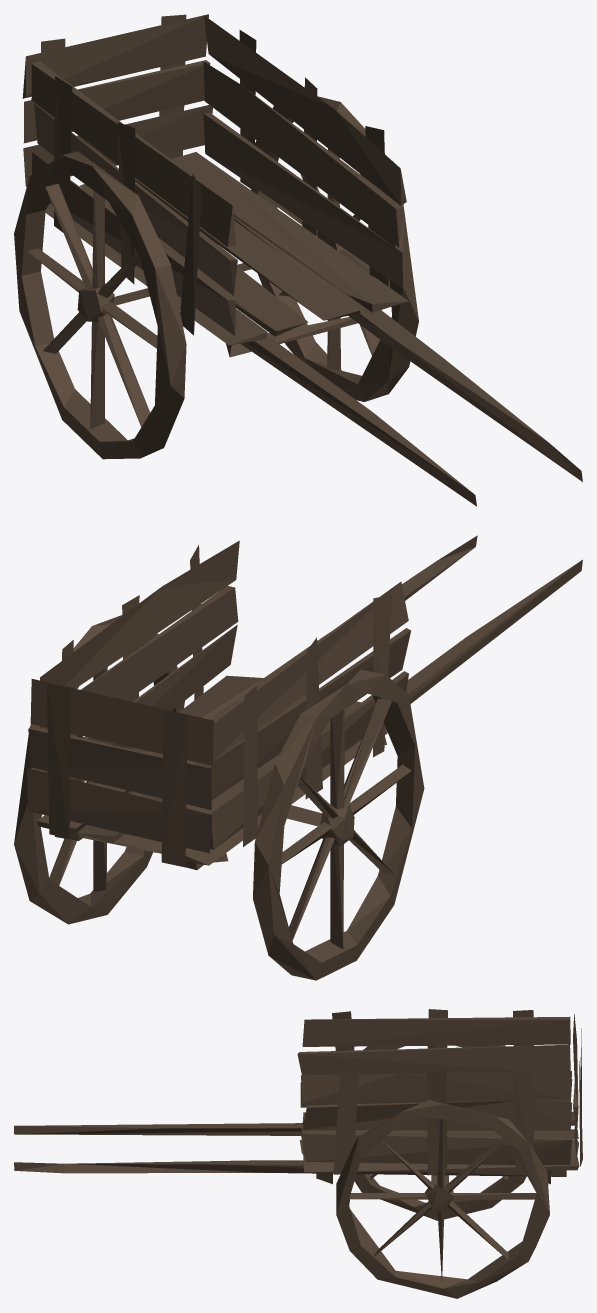
File: old-cart.lod1.glb
3 renders of one model, top to bottom at view 1: azimuth 30°, elevation 25°; view 2: azimuth 150°, elevation 25°; view 3: azimuth 270°, elevation 25°, orthographic. The views are drawn at different scales.
Visible parts, largest first — view 1: defaultMaterial; view 2: defaultMaterial; view 3: defaultMaterial.
Boxes of the visible parts, x1,y1,x2,y2 form: defaultMaterial: (14,14,582,506); defaultMaterial: (14,535,582,980); defaultMaterial: (14,1009,582,1298).
Size of the model in its own units: 1.31 by 1.53 by 3.59.
